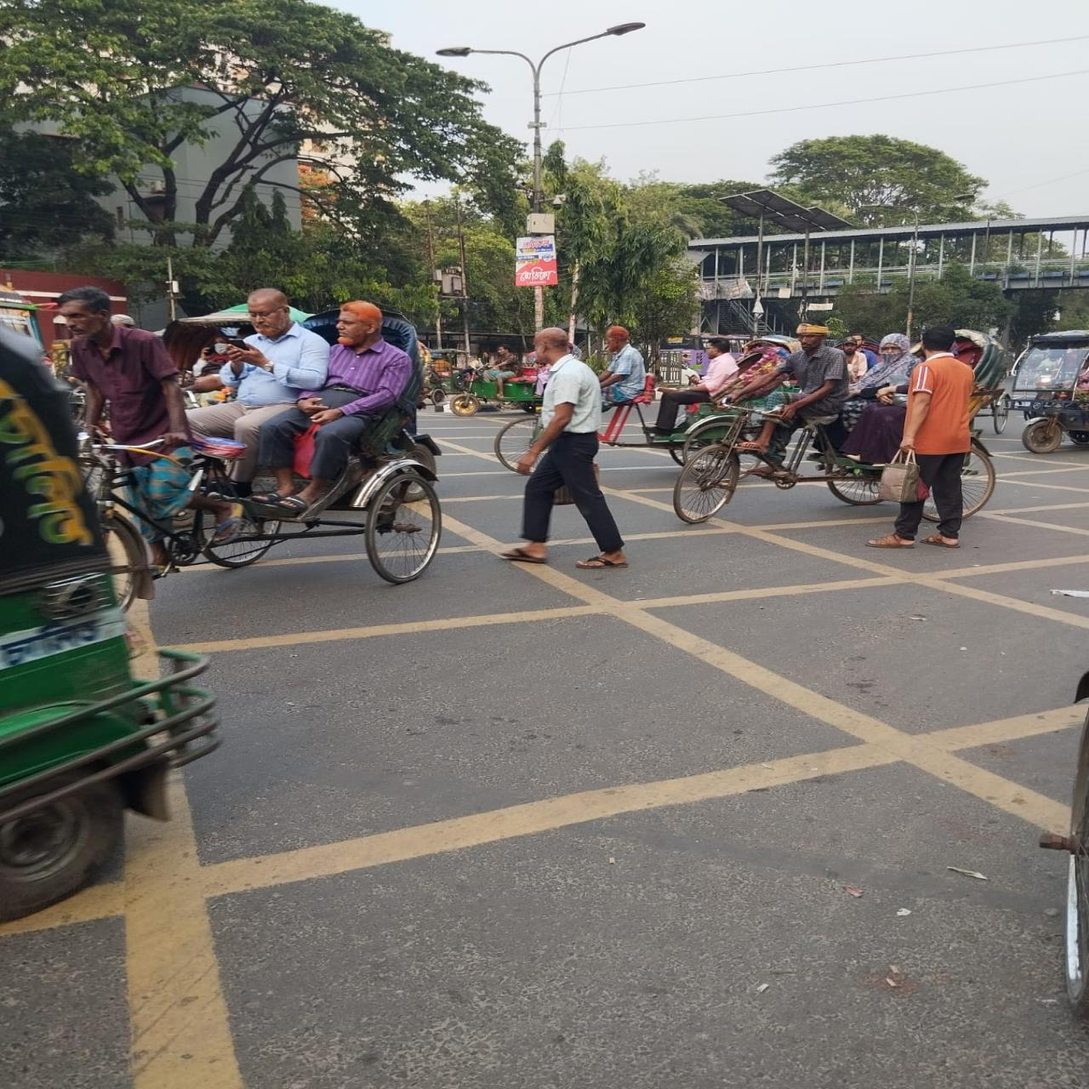person: (496, 327, 626, 575), (864, 326, 975, 551)
